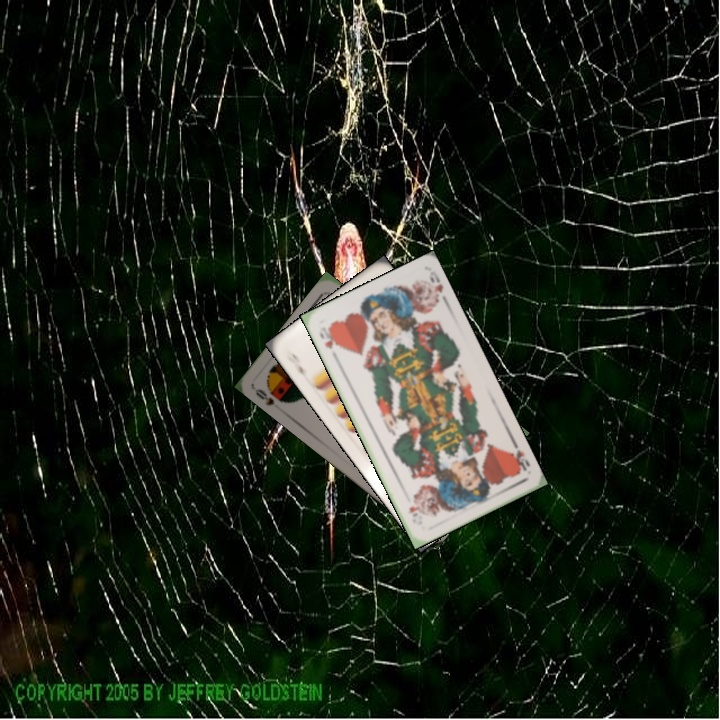E9: (282, 347, 308, 382)
HO: (505, 437, 533, 476), (315, 323, 340, 351)
SO: (251, 385, 277, 408)
